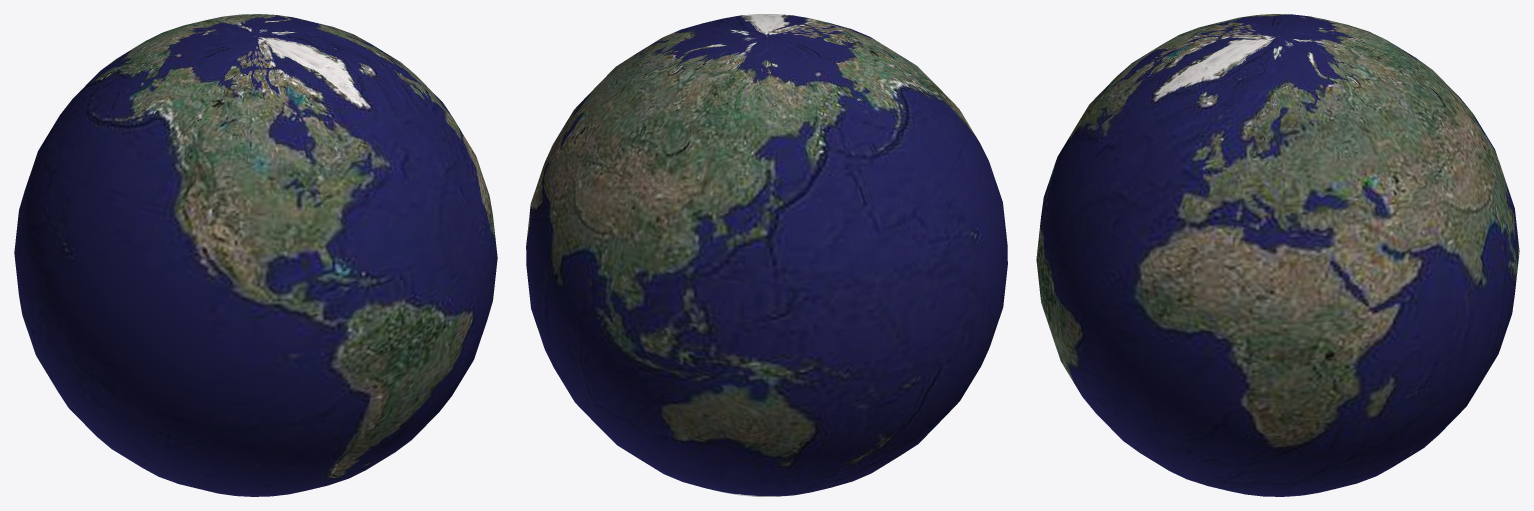
File: earthv3.obj
3 renders of one model, left to right at view 1: azimuth 30°, elevation 25°; view 2: azimuth 150°, elevation 25°; view 3: azimuth 270°, elevation 25°, orthographic.
Visible parts, largest first — view 1: Mesh1 sphere01_1 Model; view 2: Mesh1 sphere01_1 Model; view 3: Mesh1 sphere01_1 Model.
Part boxes in pixels (left/top/right/bottom): Mesh1 sphere01_1 Model: left=14, top=14, right=497, bottom=496; Mesh1 sphere01_1 Model: left=526, top=14, right=1007, bottom=496; Mesh1 sphere01_1 Model: left=1036, top=14, right=1519, bottom=496.
Bounding box in the file's own units: 1.95 × 1.95 × 1.95.
Materials: 1 (1 with a texture image).
